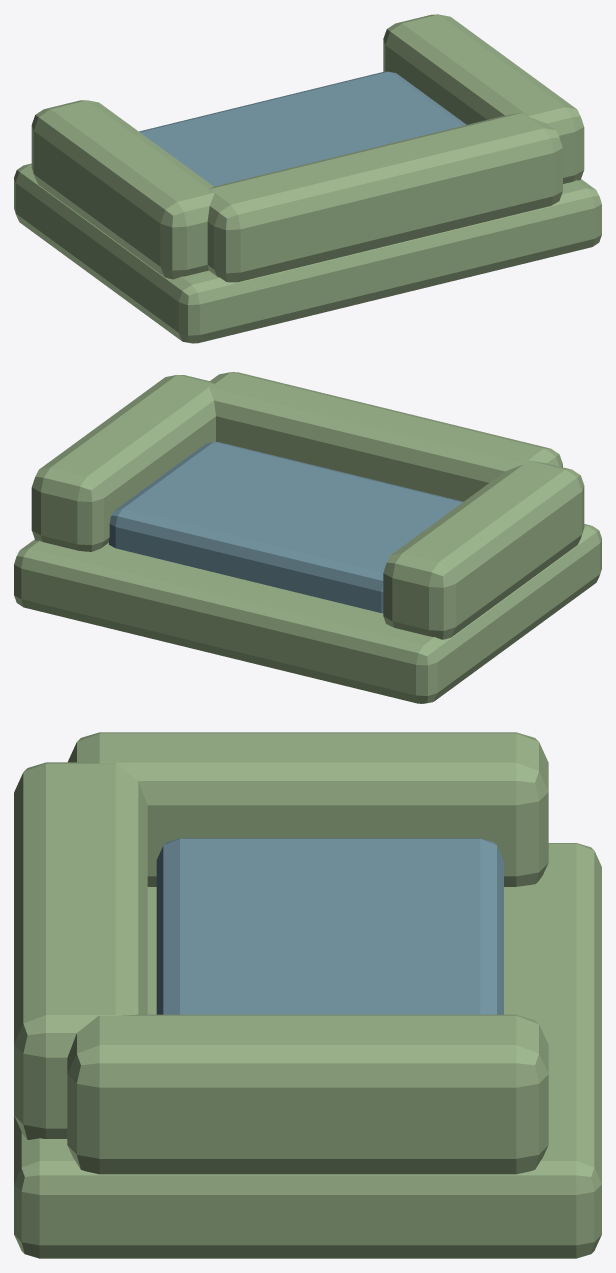
The model's file is dog_bed.glb.
3 renders of one model, top to bottom at view 1: azimuth 30°, elevation 25°; view 2: azimuth 150°, elevation 25°; view 3: azimuth 270°, elevation 25°, orthographic. The views are drawn at different scales.
Visible parts, largest first — view 1: family_dog_bed_003_back_bolster, family_dog_bed_001_support_pad, family_dog_bed_004_side_bolster_-1, family_dog_bed_002_inner_cushion, family_dog_bed_005_side_bolster_1; view 2: family_dog_bed_001_support_pad, family_dog_bed_002_inner_cushion, family_dog_bed_003_back_bolster, family_dog_bed_004_side_bolster_-1, family_dog_bed_005_side_bolster_1; view 3: family_dog_bed_001_support_pad, family_dog_bed_005_side_bolster_1, family_dog_bed_002_inner_cushion, family_dog_bed_004_side_bolster_-1, family_dog_bed_003_back_bolster.
Part boxes in pixels (x1,y1,x2,y2): family_dog_bed_003_back_bolster: (207,112,562,282); family_dog_bed_001_support_pad: (14,163,601,343); family_dog_bed_004_side_bolster_-1: (31,100,214,279); family_dog_bed_002_inner_cushion: (139,71,466,186); family_dog_bed_005_side_bolster_1: (383,14,584,183); family_dog_bed_001_support_pad: (14,524,601,703); family_dog_bed_002_inner_cushion: (109,442,463,613); family_dog_bed_003_back_bolster: (209,372,562,501); family_dog_bed_004_side_bolster_-1: (383,460,584,639); family_dog_bed_005_side_bolster_1: (31,375,215,551); family_dog_bed_001_support_pad: (14,843,601,1258); family_dog_bed_005_side_bolster_1: (67,1014,548,1174); family_dog_bed_002_inner_cushion: (156,838,503,1014); family_dog_bed_004_side_bolster_-1: (68,732,548,886); family_dog_bed_003_back_bolster: (14,762,147,1139).
Size of the model in its own units: 0.9 by 0.26 by 0.66.
